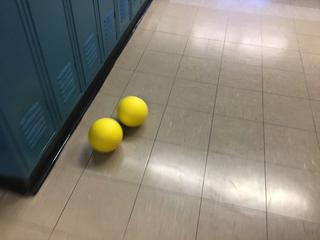power_cell: (86, 117, 123, 158), (114, 96, 150, 128)
